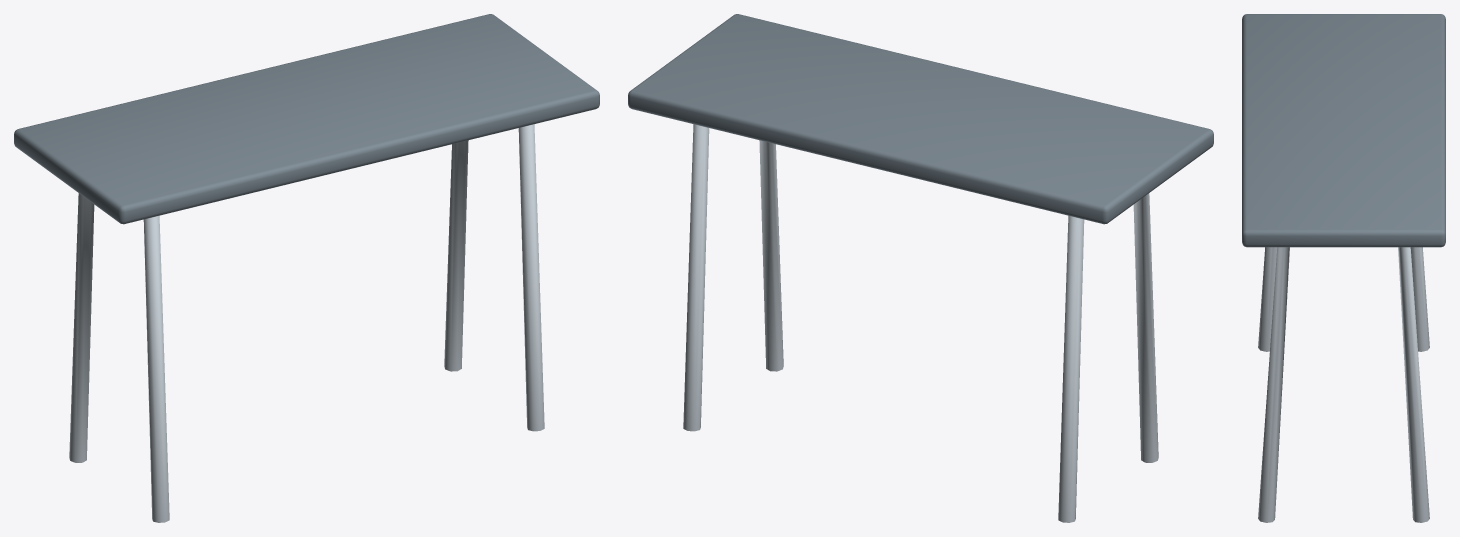
Rendered from breakfast-counter-table.glb.
3 views of the same model, side by side, from view 1: azimuth 30°, elevation 25°; view 2: azimuth 150°, elevation 25°; view 3: azimuth 270°, elevation 25° (orthographic). The views are drawn at different scales.
Parts seen in each view (by area): view 1: breakfast-counter-table; view 2: breakfast-counter-table; view 3: breakfast-counter-table.
Part boxes in pixels (x1,y1,x2,y2): breakfast-counter-table: (14,14,599,522); breakfast-counter-table: (628,14,1213,522); breakfast-counter-table: (1242,14,1445,522).
Size of the model in its own units: 1.4 by 0.93 by 0.55.
